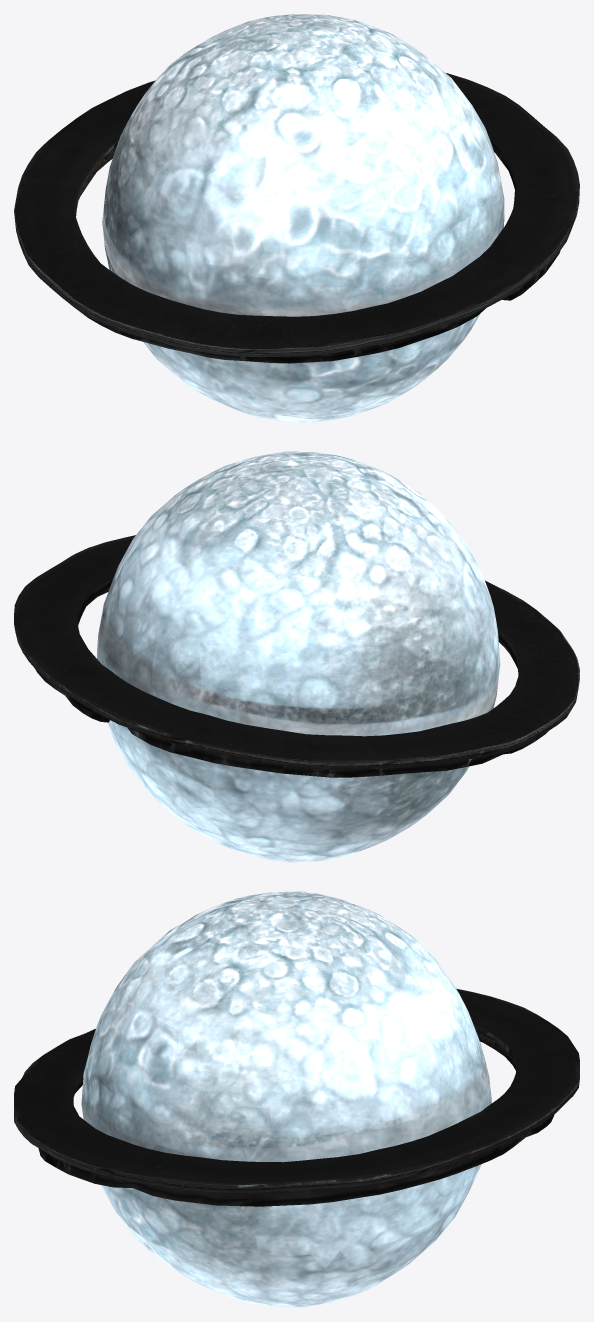
The model's file is Meshy_AI_model.glb.
3 views of the same model, one above another, from view 1: azimuth 30°, elevation 25°; view 2: azimuth 150°, elevation 25°; view 3: azimuth 270°, elevation 25° (orthographic).
Parts seen in each view (by area): view 1: mesh_node; view 2: mesh_node; view 3: mesh_node.
Boxes of the visible parts, x1,y1,x2,y2 form: mesh_node: (14, 14, 579, 422); mesh_node: (14, 451, 579, 862); mesh_node: (14, 891, 579, 1307).
Bounding box in the file's own units: 1 × 0.7402 × 1.
Materials: 1 (1 with a texture image).
